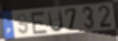2: (97, 5, 114, 29)
3: (82, 5, 96, 31)
7: (64, 8, 79, 32)
9: (16, 13, 30, 36)
E: (29, 11, 49, 35)
U: (46, 8, 65, 33)
